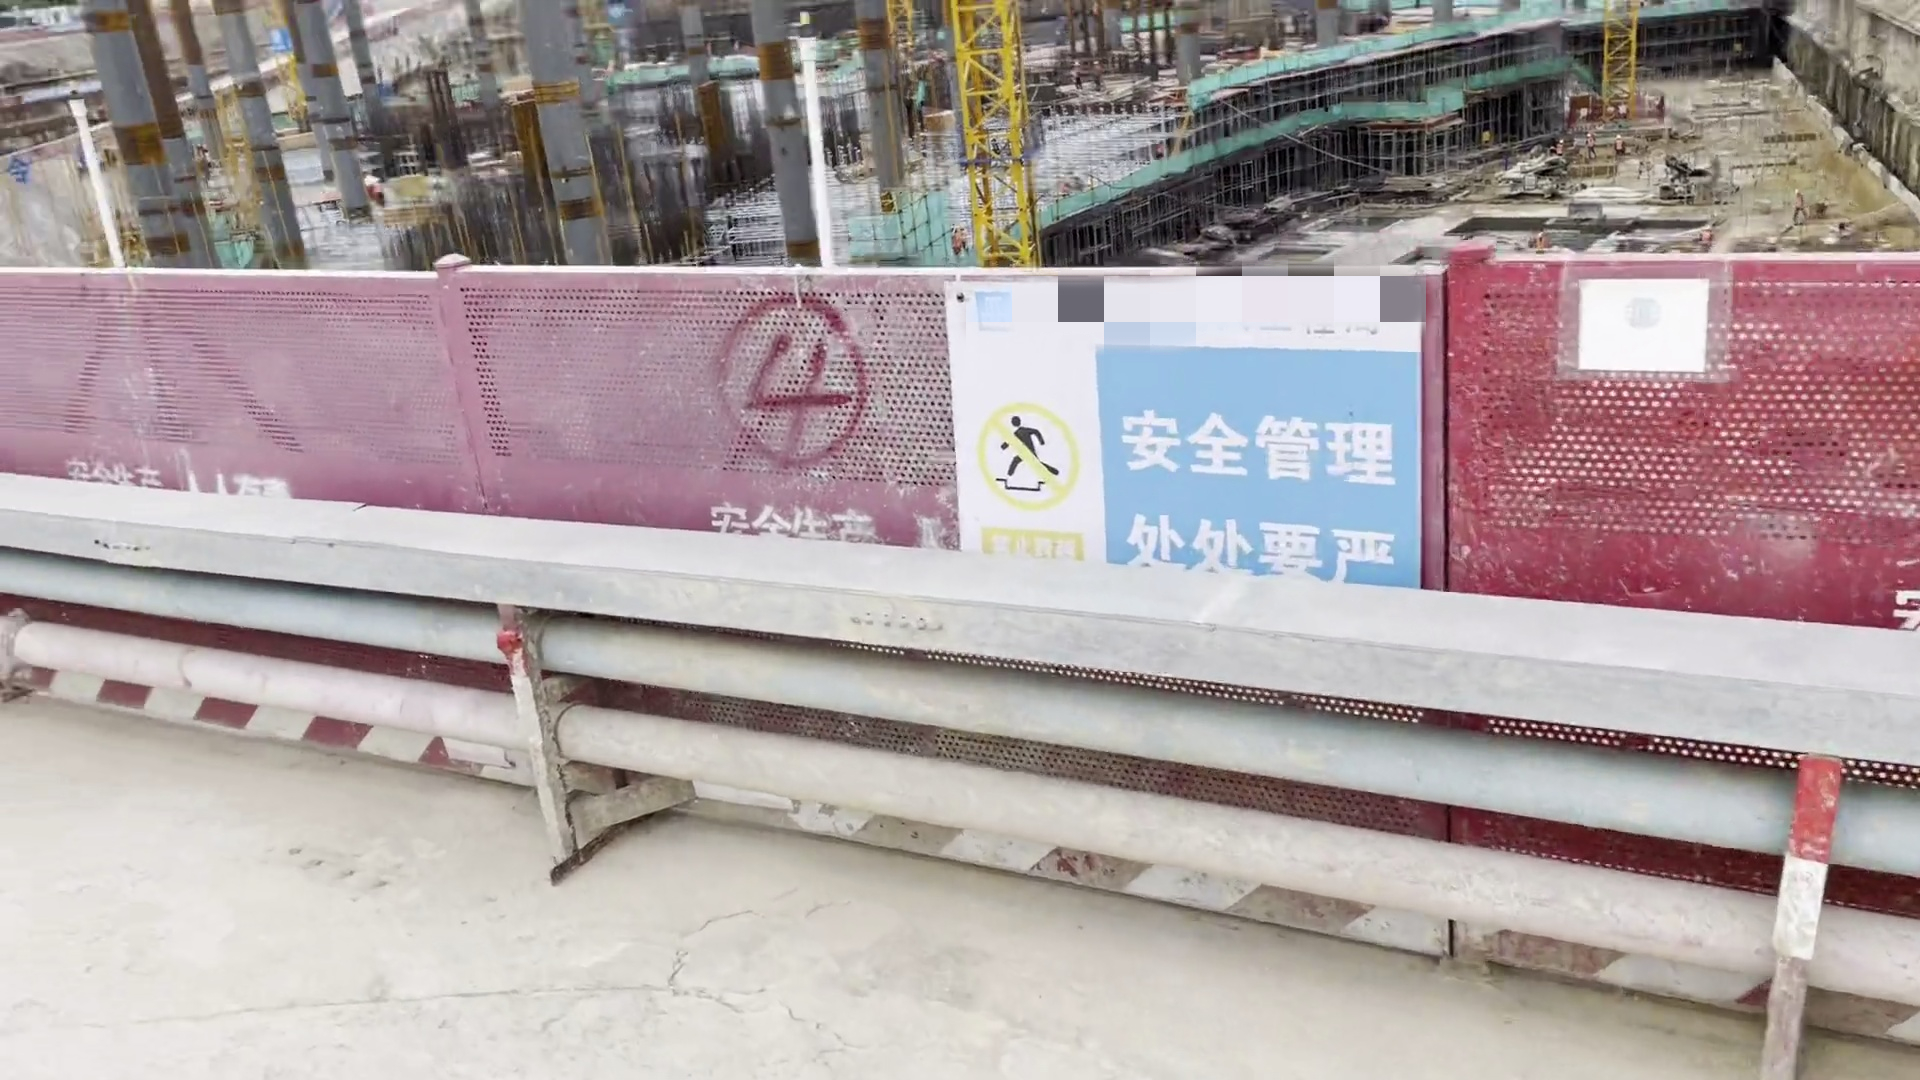fence: (2, 247, 1920, 645)
helmet: (1071, 61, 1081, 69), (1092, 60, 1102, 67), (1614, 132, 1622, 140), (1586, 133, 1593, 139), (1559, 139, 1563, 144)
person: (1056, 41, 1085, 99), (1085, 51, 1111, 103), (1606, 123, 1633, 172), (1577, 120, 1601, 169), (1548, 134, 1573, 172)
slogan: (922, 266, 1456, 609), (1552, 249, 1738, 396), (594, 3, 648, 54), (264, 30, 295, 57)
vest: (1091, 67, 1102, 82), (1071, 69, 1082, 82), (1614, 139, 1623, 153), (1586, 139, 1595, 151), (1557, 143, 1563, 155)
wood: (391, 171, 437, 228)
